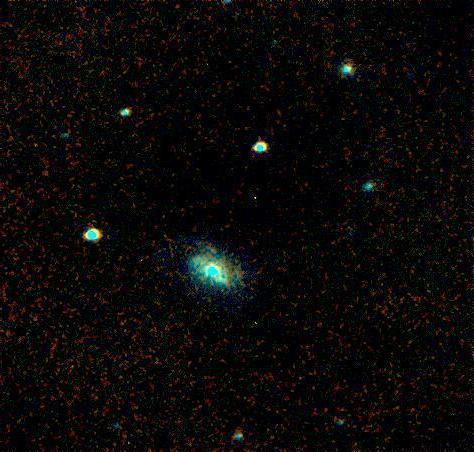star: (376, 363, 406, 393)
